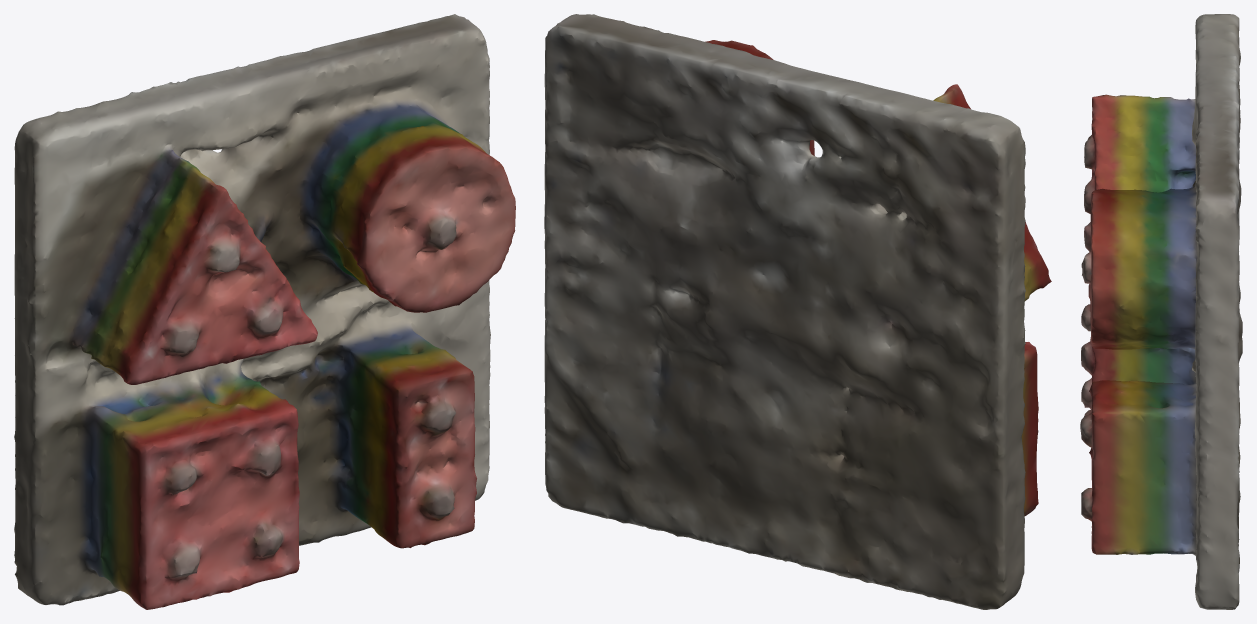
Rendered from sorting_board.glb.
3 views of the same model, side by side, from view 1: azimuth 30°, elevation 25°; view 2: azimuth 150°, elevation 25°; view 3: azimuth 270°, elevation 25° (orthographic). The views are drawn at different scales.
Size of the model in its own units: 0.998 by 0.9925 by 0.3483.
